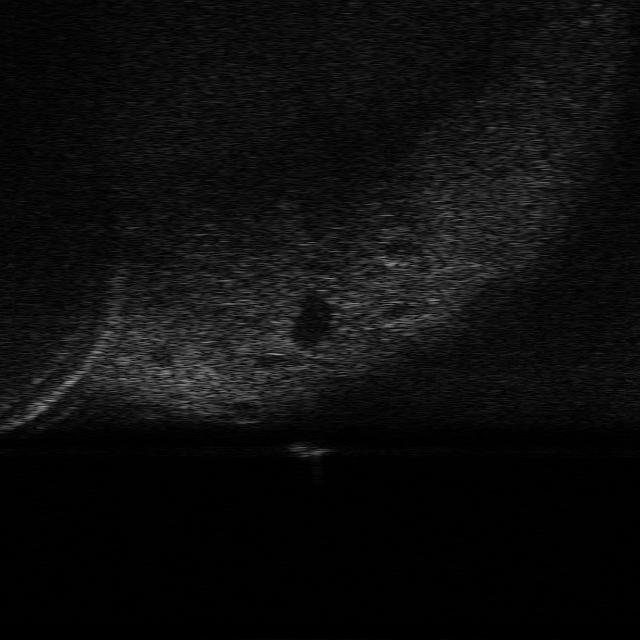cube: (283, 437, 335, 460)
